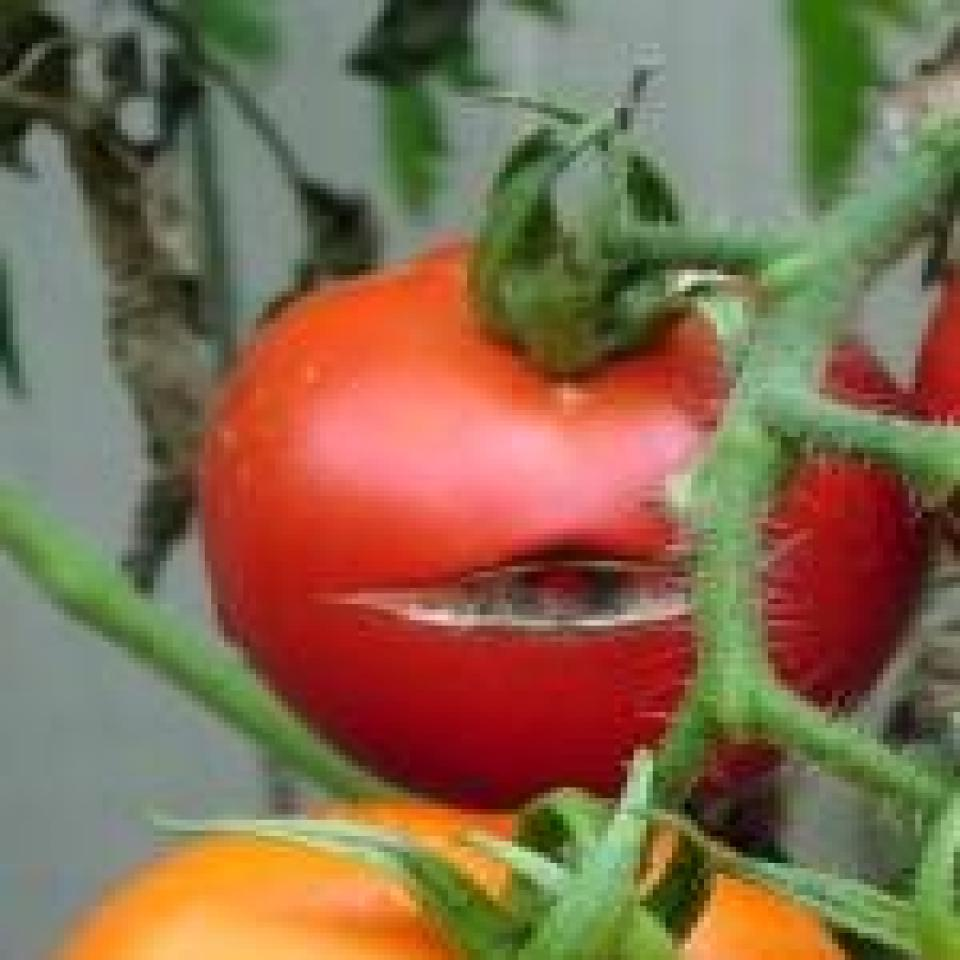Cracking: (296, 514, 824, 641)
